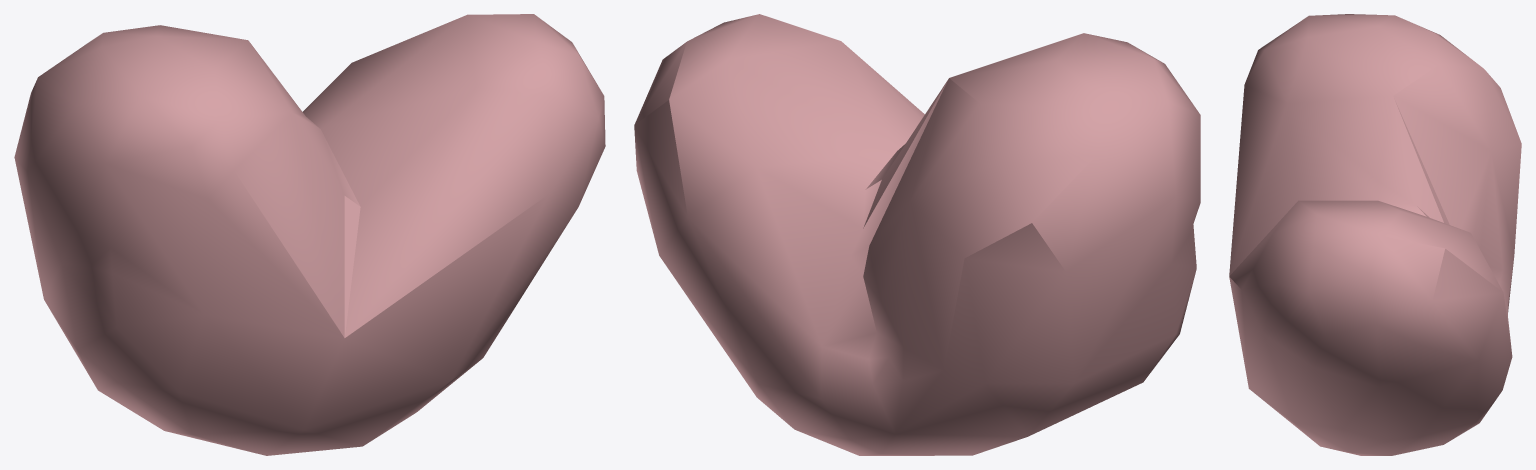
The model's file is fma14964_fj2601.glb.
The picture shows the model from 3 angles, left to right: view 1: azimuth 30°, elevation 25°; view 2: azimuth 150°, elevation 25°; view 3: azimuth 270°, elevation 25°; orthographic projection. The views are drawn at different scales.
Parts seen in each view (by area): view 1: FMA14964_FJ2601; view 2: FMA14964_FJ2601; view 3: FMA14964_FJ2601.
Boxes of the visible parts, left/top/right/bottom form: FMA14964_FJ2601: left=14, top=14, right=605, bottom=455; FMA14964_FJ2601: left=634, top=14, right=1200, bottom=455; FMA14964_FJ2601: left=1229, top=14, right=1521, bottom=455.
Bounding box in the file's own units: 0.0393 × 0.0295 × 0.0224.
